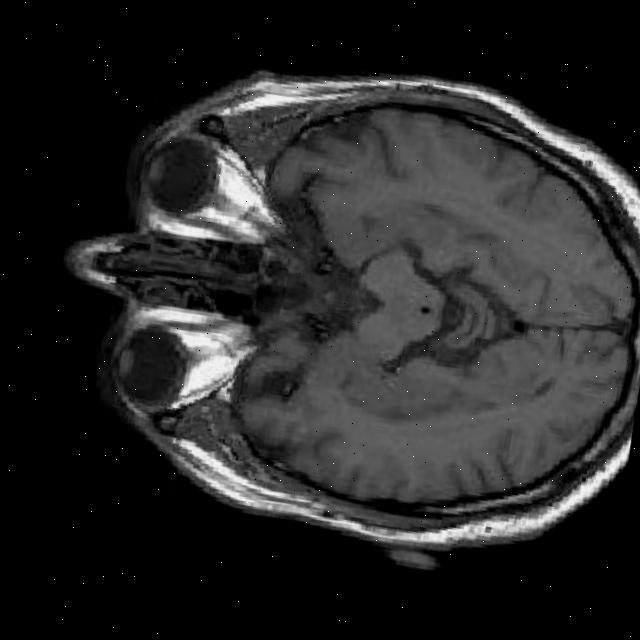NoTumor: (202, 43, 640, 585)
